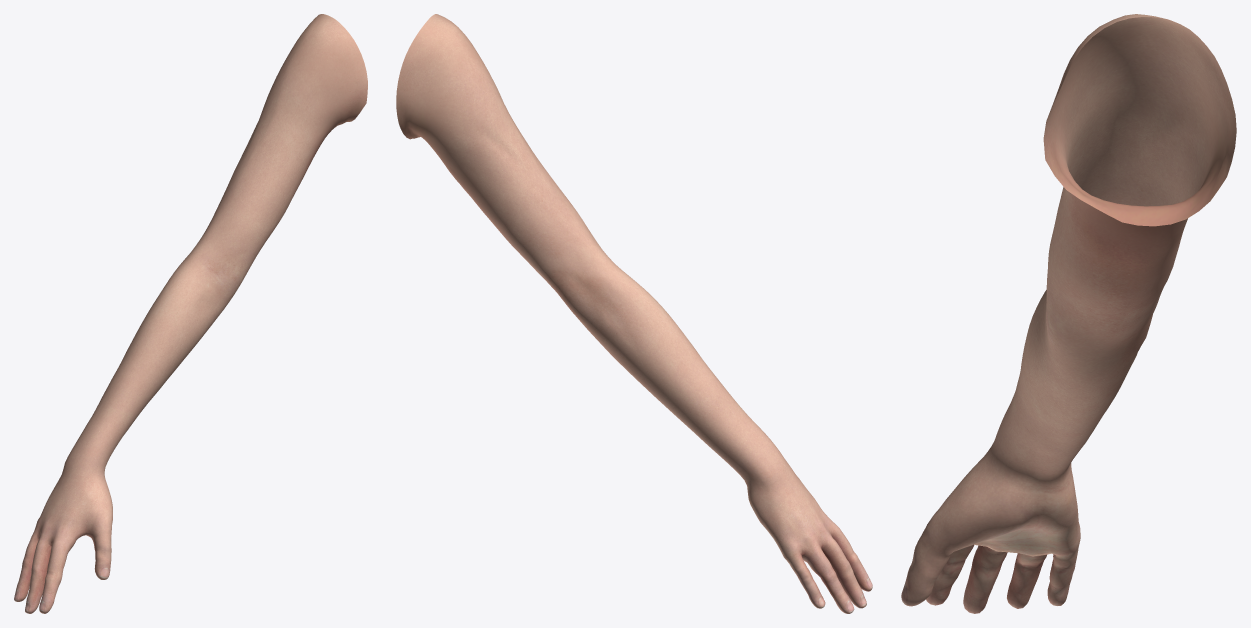
File: BrazoDerecho.fbx
3 views of the same model, side by side, from view 1: azimuth 30°, elevation 25°; view 2: azimuth 150°, elevation 25°; view 3: azimuth 270°, elevation 25° (orthographic). The views are drawn at different scales.
Visible parts, largest first — view 1: body.003; view 2: body.003; view 3: body.003.
Boxes of the visible parts, x1,y1,x2,y2 form: body.003: [14, 14, 367, 613]; body.003: [396, 14, 872, 613]; body.003: [901, 14, 1236, 613].
Size of the model in its own units: 47.03 by 59.63 by 19.74.
